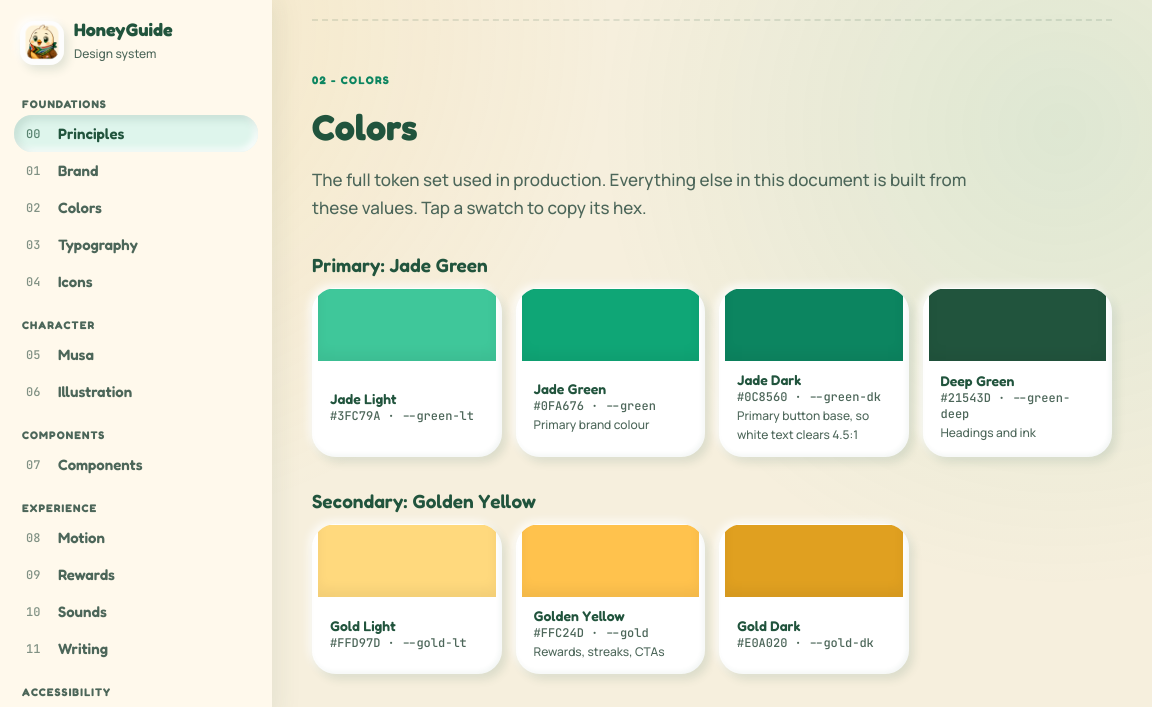
Test: colour swatches › copies the hex value and confirms with a toast
(page scrolled)
Click the button "Jade Green #0FA676 · --green Primary brand colour". click: {"x": 610, "y": 372}
box: [516, 288, 705, 457]
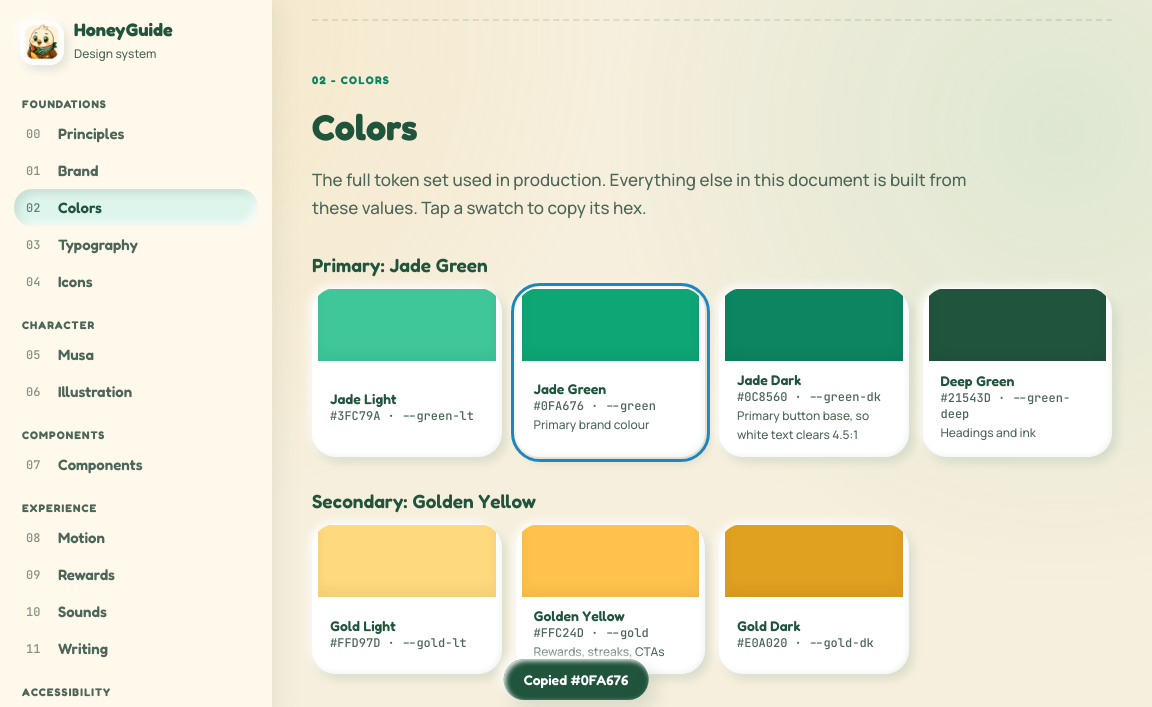
expect the text "Copied #0FA676" is shown: met, box [504, 659, 648, 700]
